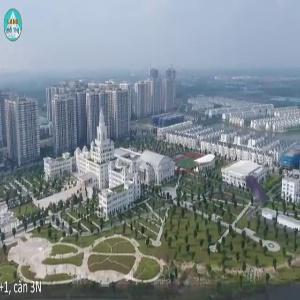drone: (206, 149, 294, 237)
